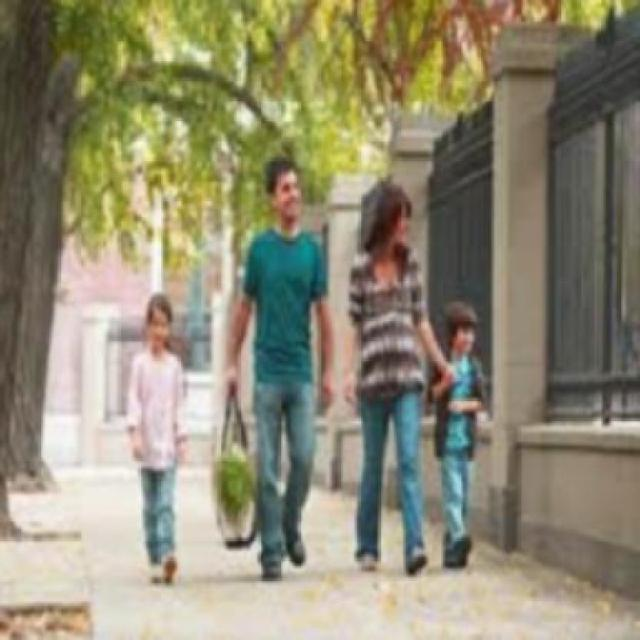Person: (222, 140, 336, 582), (346, 171, 445, 575), (119, 278, 187, 584), (431, 300, 504, 569)
